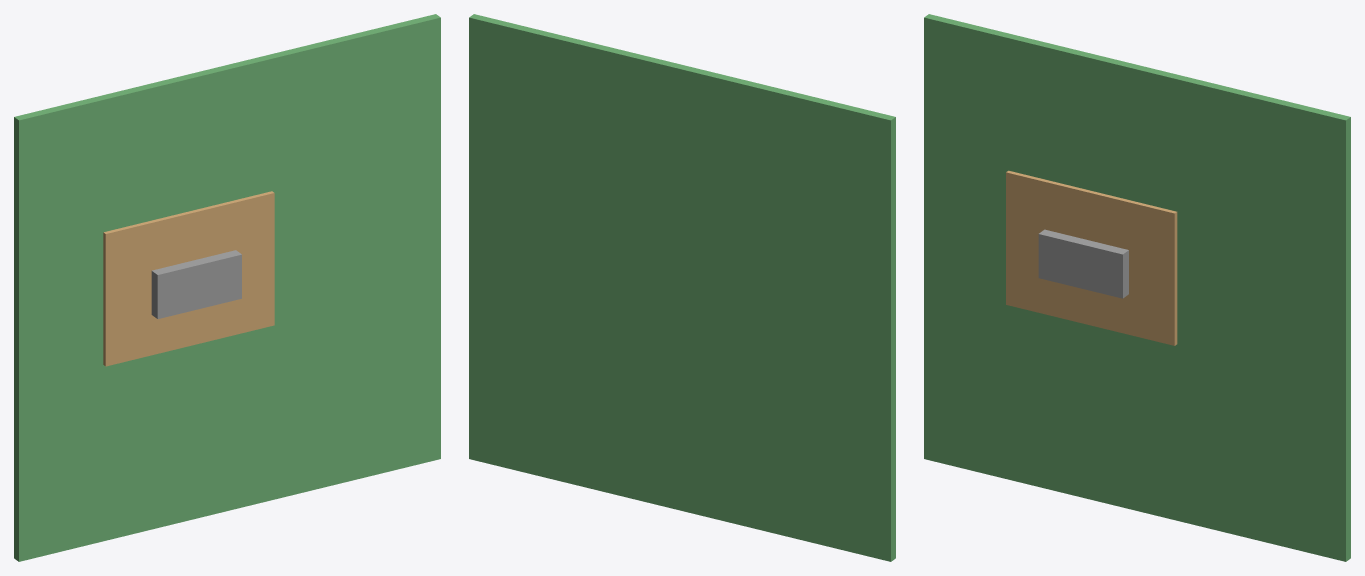
The model's file is board.glb.
3 views of the same model, side by side, from view 1: azimuth 30°, elevation 25°; view 2: azimuth 150°, elevation 25°; view 3: azimuth 330°, elevation 25° (orthographic).
Visible parts, largest first — view 1: Substrate_Layer_0, Substrate_Layer_1, Substrate_Layer_2, Component_R1; view 2: Substrate_Layer_0; view 3: Substrate_Layer_0, Substrate_Layer_2, Substrate_Layer_1, Component_R1.
Boxes of the visible parts, x1,y1,x2,y2 form: Substrate_Layer_0: [14, 14, 440, 561]; Substrate_Layer_1: [103, 212, 190, 366]; Substrate_Layer_2: [188, 191, 274, 345]; Component_R1: [151, 250, 241, 318]; Substrate_Layer_0: [469, 14, 895, 561]; Substrate_Layer_0: [924, 14, 1350, 561]; Substrate_Layer_2: [1090, 191, 1177, 345]; Substrate_Layer_1: [1006, 170, 1092, 325]; Component_R1: [1038, 229, 1128, 298].
Bounding box in the file's own units: 0.01 × 0.01 × 0.0007.
